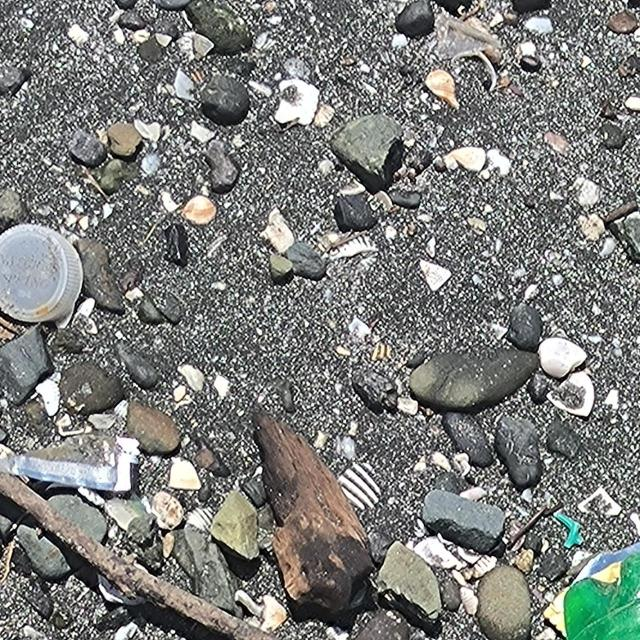plastic_waste: (1, 225, 85, 328)
